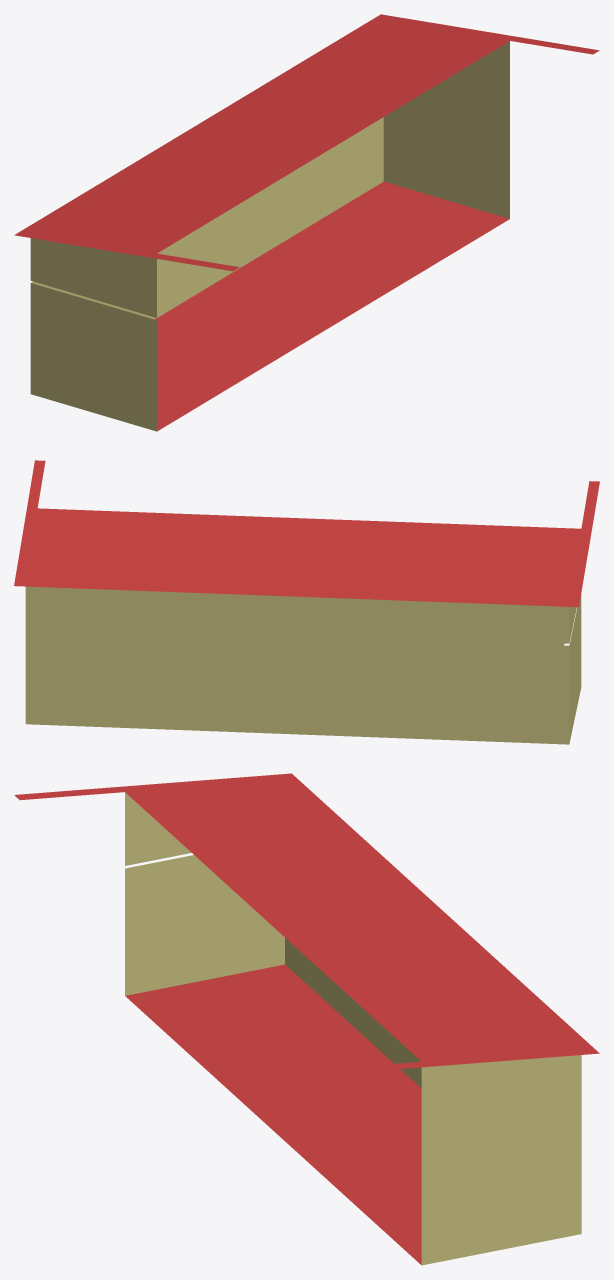
3 views of the same model, one above another, from view 1: azimuth 30°, elevation 25°; view 2: azimuth 150°, elevation 25°; view 3: azimuth 270°, elevation 25° (orthographic). The views are drawn at different scales.
Size of the model in its own units: 28.81 by 21.32 by 8.68.
